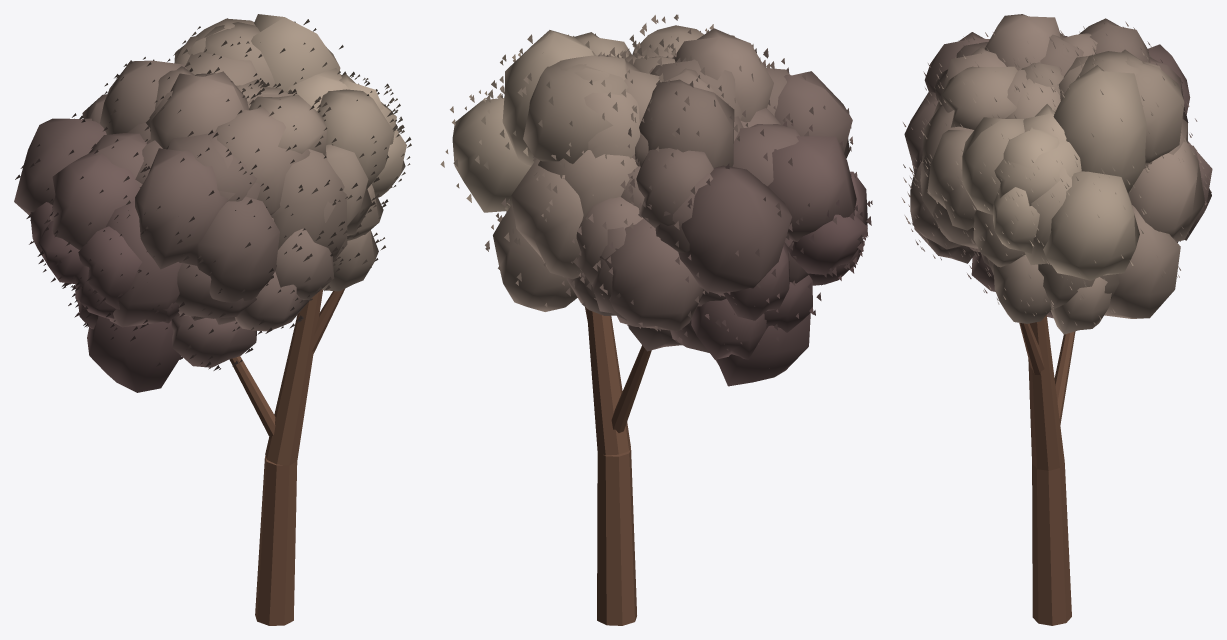
Rendered from autumn_oak.glb.
The picture shows the model from 3 angles, left to right: view 1: azimuth 30°, elevation 25°; view 2: azimuth 150°, elevation 25°; view 3: azimuth 270°, elevation 25°; orthographic projection. The views are drawn at different scales.
Visible parts, largest first — view 1: AutumnLeaves, OakWood; view 2: AutumnLeaves, OakWood; view 3: AutumnLeaves, OakWood.
Part boxes in pixels (x1,y1,x2,y2): AutumnLeaves: (14, 14, 411, 392); OakWood: (229, 289, 344, 625); AutumnLeaves: (440, 14, 872, 386); OakWood: (585, 307, 651, 625); AutumnLeaves: (901, 14, 1212, 334); OakWood: (1019, 315, 1075, 625).
Size of the model in its own units: 3.61 by 5.21 by 2.61.
